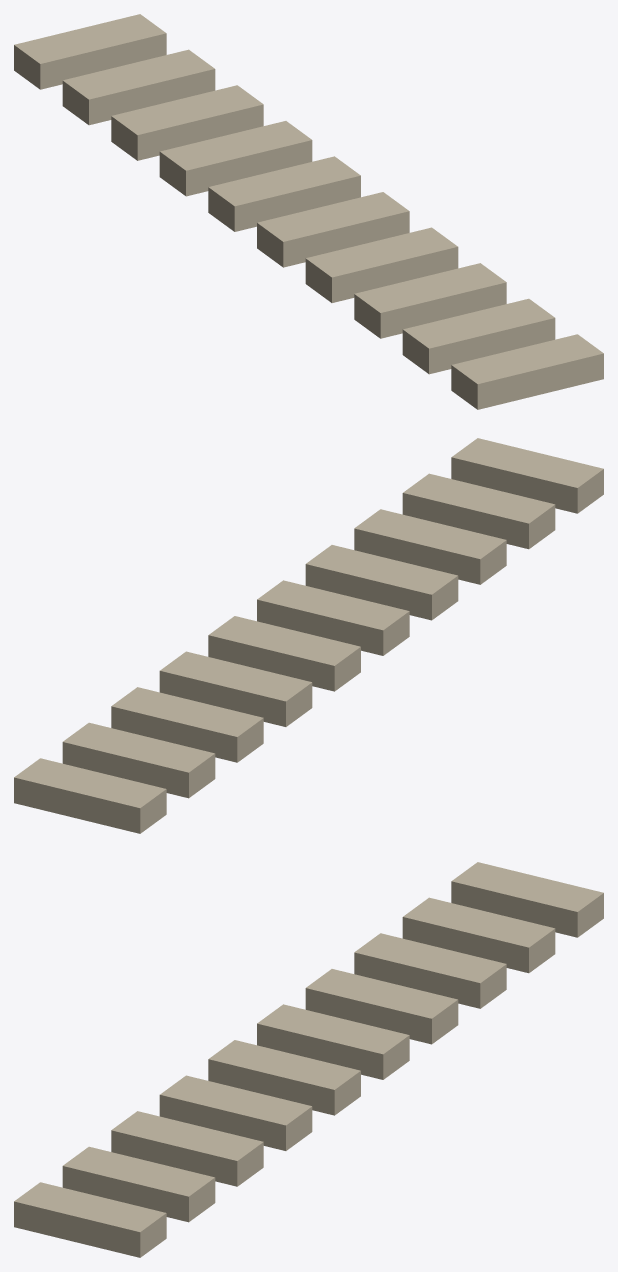
The model's file is 1230-Buildings-shell-pieces-roof-terrace-emitTerrace-100-triangles-1-80-x-0-35-x-11-4.glb.
The picture shows the model from 3 angles, top to bottom: view 1: azimuth 30°, elevation 25°; view 2: azimuth 150°, elevation 25°; view 3: azimuth 330°, elevation 25°; orthographic projection.
Parts seen in each view (by area): view 1: emitTerrace; view 2: emitTerrace; view 3: emitTerrace.
Part boxes in pixels (left/top/right/bottom): emitTerrace: left=14, top=14, right=603, bottom=409; emitTerrace: left=14, top=438, right=603, bottom=833; emitTerrace: left=14, top=862, right=603, bottom=1257.
Size of the model in its own units: 1.8 by 0.35 by 11.45.
